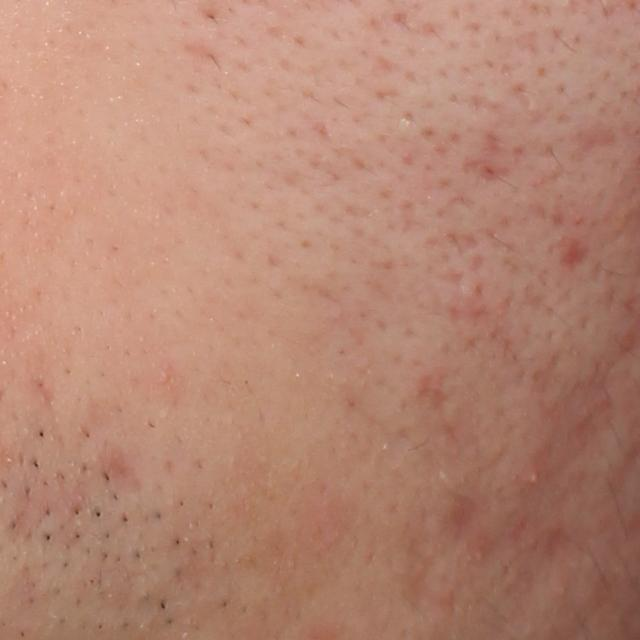atrophic_scar: (443, 487, 492, 555), (563, 119, 621, 162), (410, 364, 455, 416), (457, 153, 514, 184), (476, 124, 516, 158), (440, 230, 480, 259)
